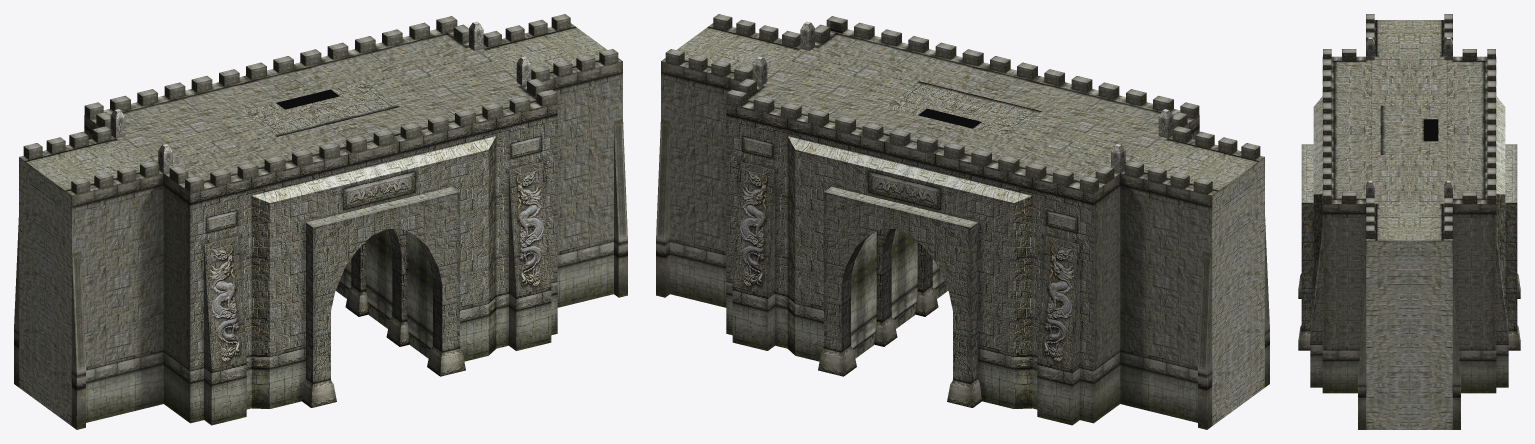
The model's file is bigdam_001.fbx.
The picture shows the model from 3 angles, left to right: view 1: azimuth 30°, elevation 25°; view 2: azimuth 150°, elevation 25°; view 3: azimuth 270°, elevation 25°; orthographic projection. The views are drawn at different scales.
Parts seen in each view (by area): view 1: b1-bigdam-02, b1-bigdam-01, b1-bigdam-03; view 2: b1-bigdam-02, b1-bigdam-01, b1-bigdam-03; view 3: b1-bigdam-01, b1-bigdam-02, b1-bigdam-03.
Part boxes in pixels (box(x1,y1,x2,y2)): b1-bigdam-02: box(84, 21, 557, 425); b1-bigdam-01: box(14, 14, 627, 429); b1-bigdam-03: box(84, 29, 555, 407); b1-bigdam-02: box(726, 20, 1199, 425); b1-bigdam-01: box(656, 14, 1269, 429); b1-bigdam-03: box(728, 29, 1199, 407); b1-bigdam-01: box(1323, 14, 1495, 429); b1-bigdam-02: box(1298, 37, 1520, 393); b1-bigdam-03: box(1298, 56, 1520, 349).
Size of the model in its own units: 59.48 by 26.36 by 25.29.
